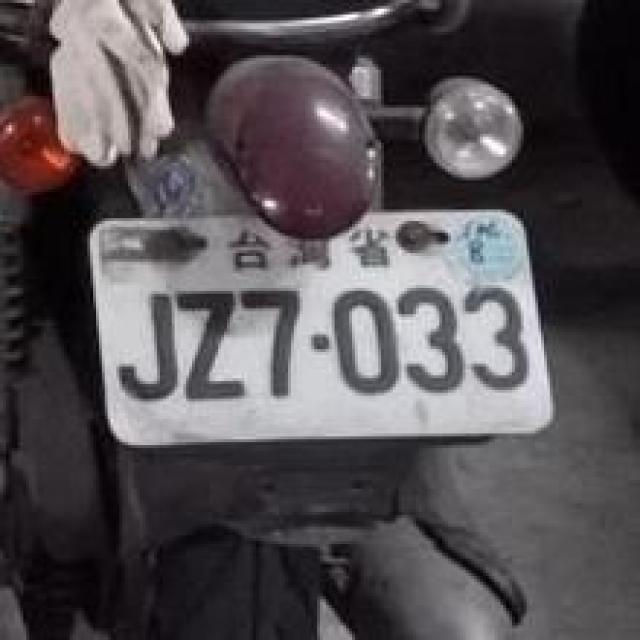W: (76, 175, 558, 474)
